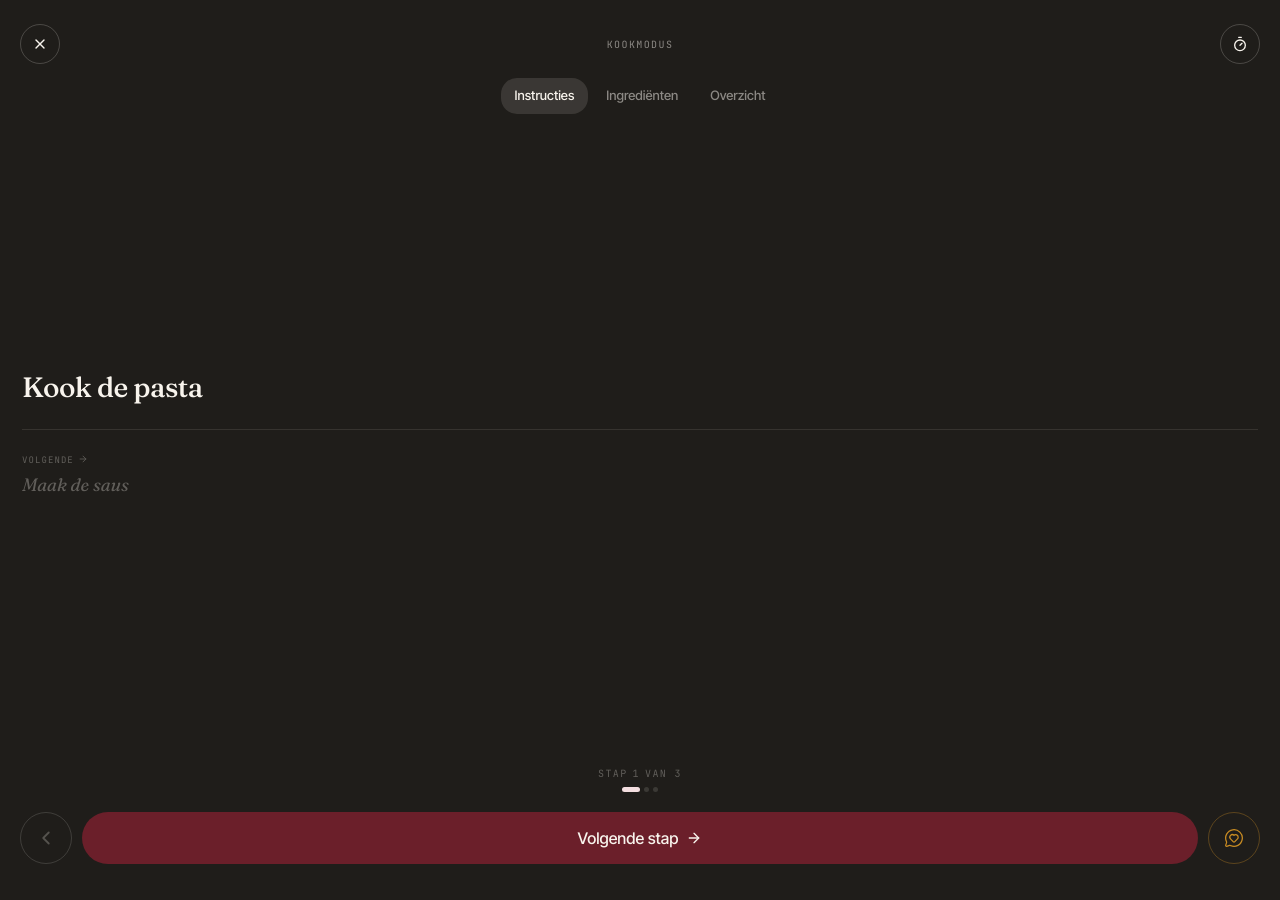
Test: CookingScreen › ingredients tab › shows the ingredients panel when Ingrediënten tab is clicked
This screenshot has width=1280, height=900.
Click the button "Ingrediënten".
click(642, 96)  # box x1=592 y1=78 x2=692 y2=114
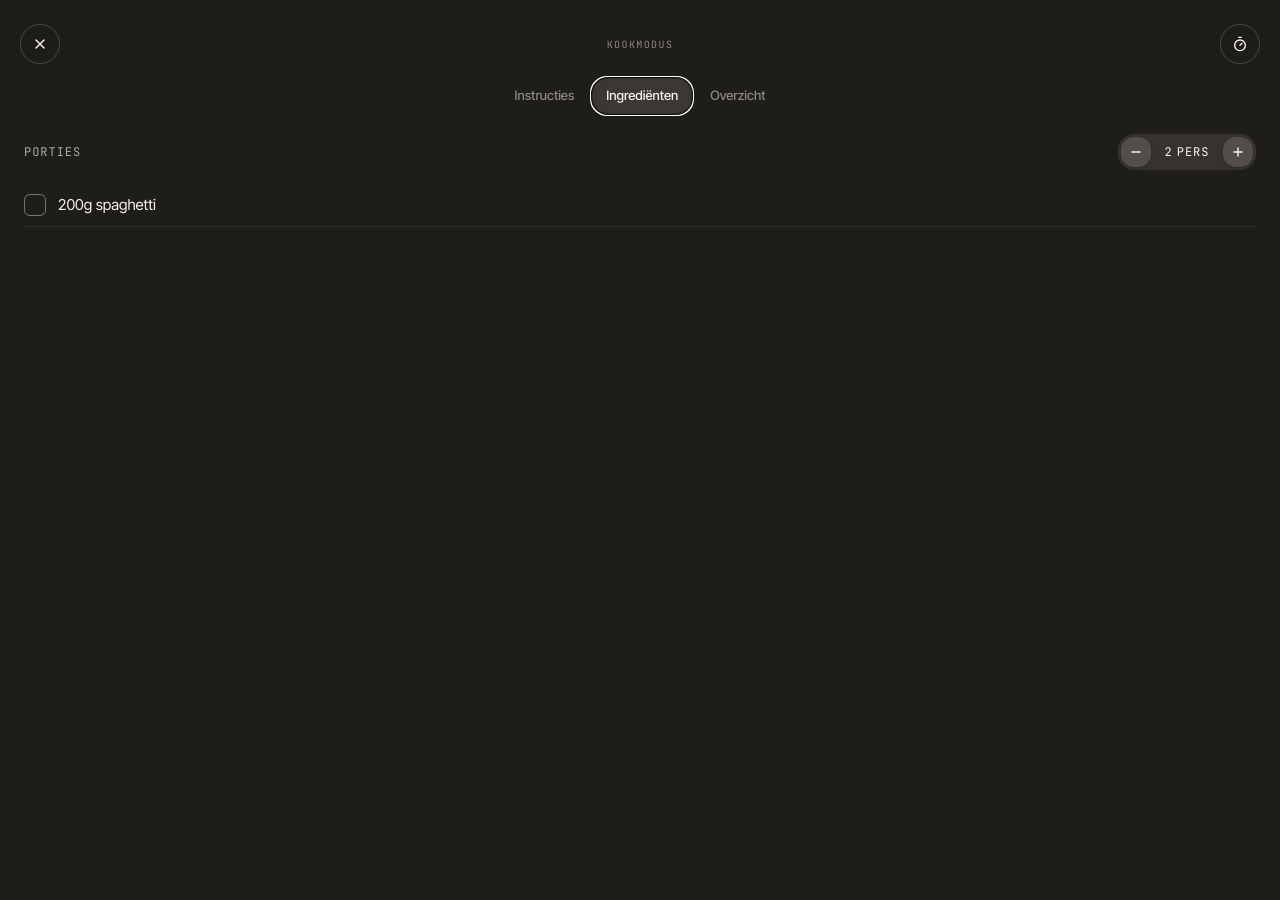
Result: the text "porties" is shown at x1=24 y1=142 x2=81 y2=160
